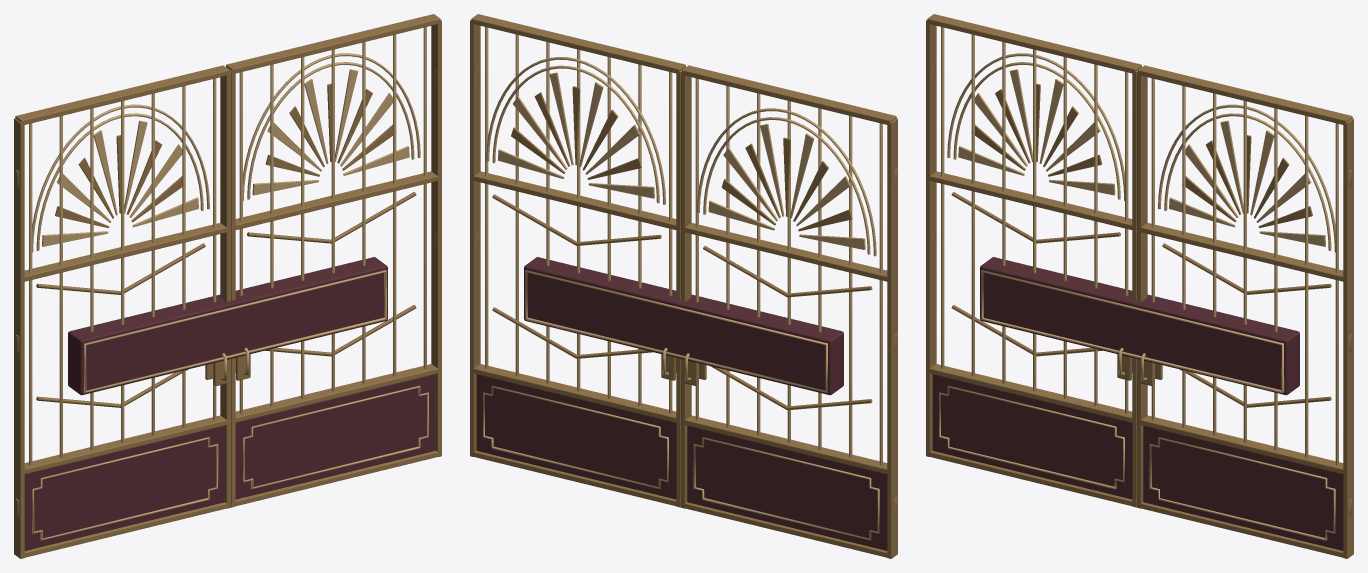
Rendered from casino-deco-gate-lounge.glb.
3 views of the same model, side by side, from view 1: azimuth 30°, elevation 25°; view 2: azimuth 150°, elevation 25°; view 3: azimuth 330°, elevation 25° (orthographic).
Parts seen in each view (by area): view 1: gate-lounge / Entry smoky oxblood lacquer, gate-lounge / Entry aged bronze, gate-lounge / Entry champagne brass; view 2: gate-lounge / Entry smoky oxblood lacquer, gate-lounge / Entry aged bronze, gate-lounge / Entry champagne brass; view 3: gate-lounge / Entry smoky oxblood lacquer, gate-lounge / Entry aged bronze, gate-lounge / Entry champagne brass.
Boxes of the visible parts, box(x1,y1,x2,y2) form: gate-lounge / Entry smoky oxblood lacquer: box(24, 257, 435, 550); gate-lounge / Entry aged bronze: box(14, 14, 441, 558); gate-lounge / Entry champagne brass: box(29, 27, 428, 540); gate-lounge / Entry smoky oxblood lacquer: box(476, 257, 887, 550); gate-lounge / Entry aged bronze: box(470, 14, 897, 558); gate-lounge / Entry champagne brass: box(483, 27, 882, 540); gate-lounge / Entry smoky oxblood lacquer: box(932, 257, 1343, 550); gate-lounge / Entry aged bronze: box(926, 14, 1353, 558); gate-lounge / Entry champagne brass: box(939, 27, 1338, 540).
Bounding box in the file's own units: 4.01 × 3.96 × 0.3013.
